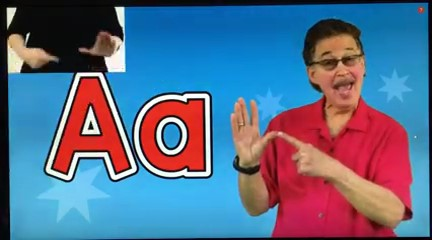A: (228, 95, 334, 190)
